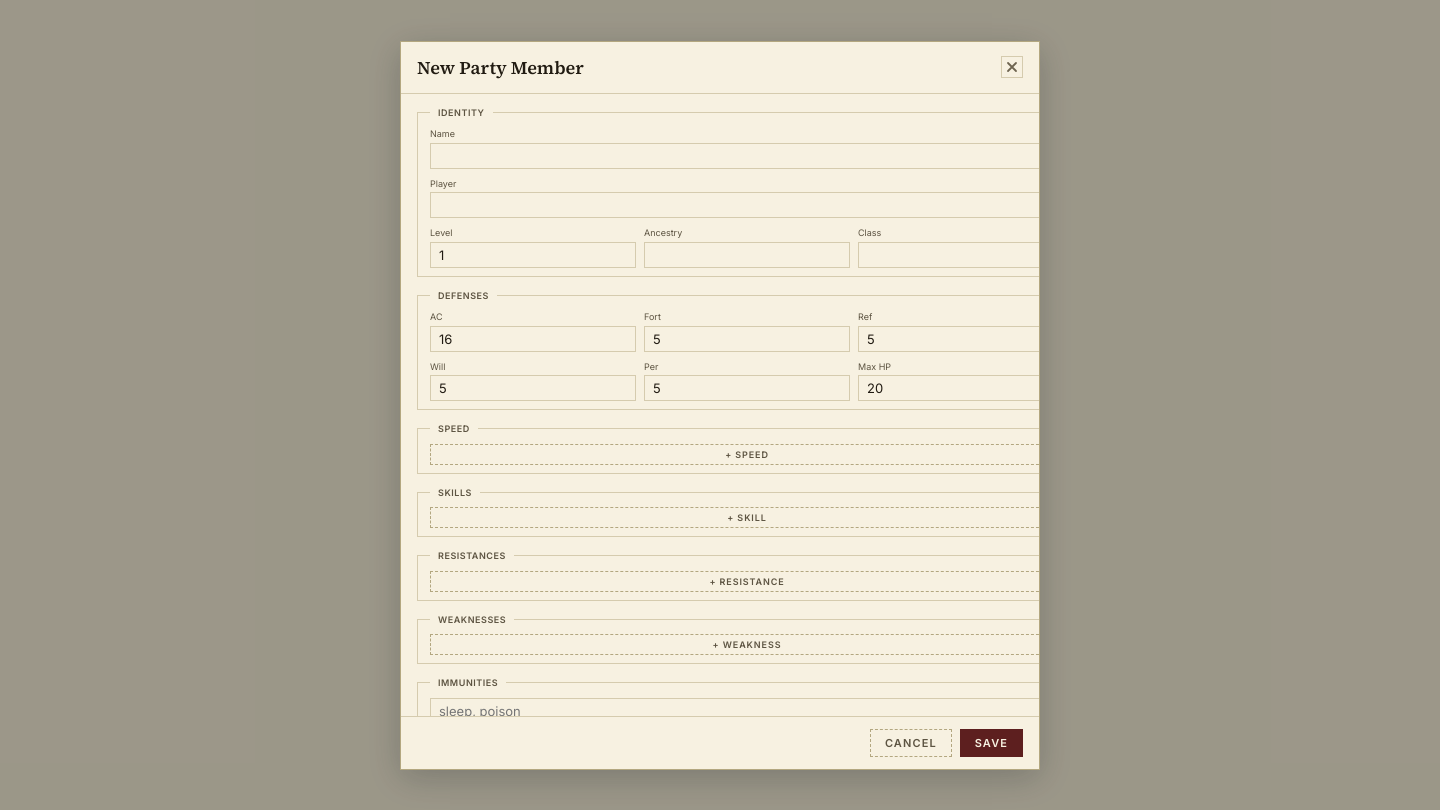
Test: PartyMemberEditModal — JS-level defensive validation › submitting with level below 1 renders the "Level must be at least 1" alert
Type "Aric" into the field labelled "Name" at (747, 156), box left=430, top=142, right=1064, bottom=168
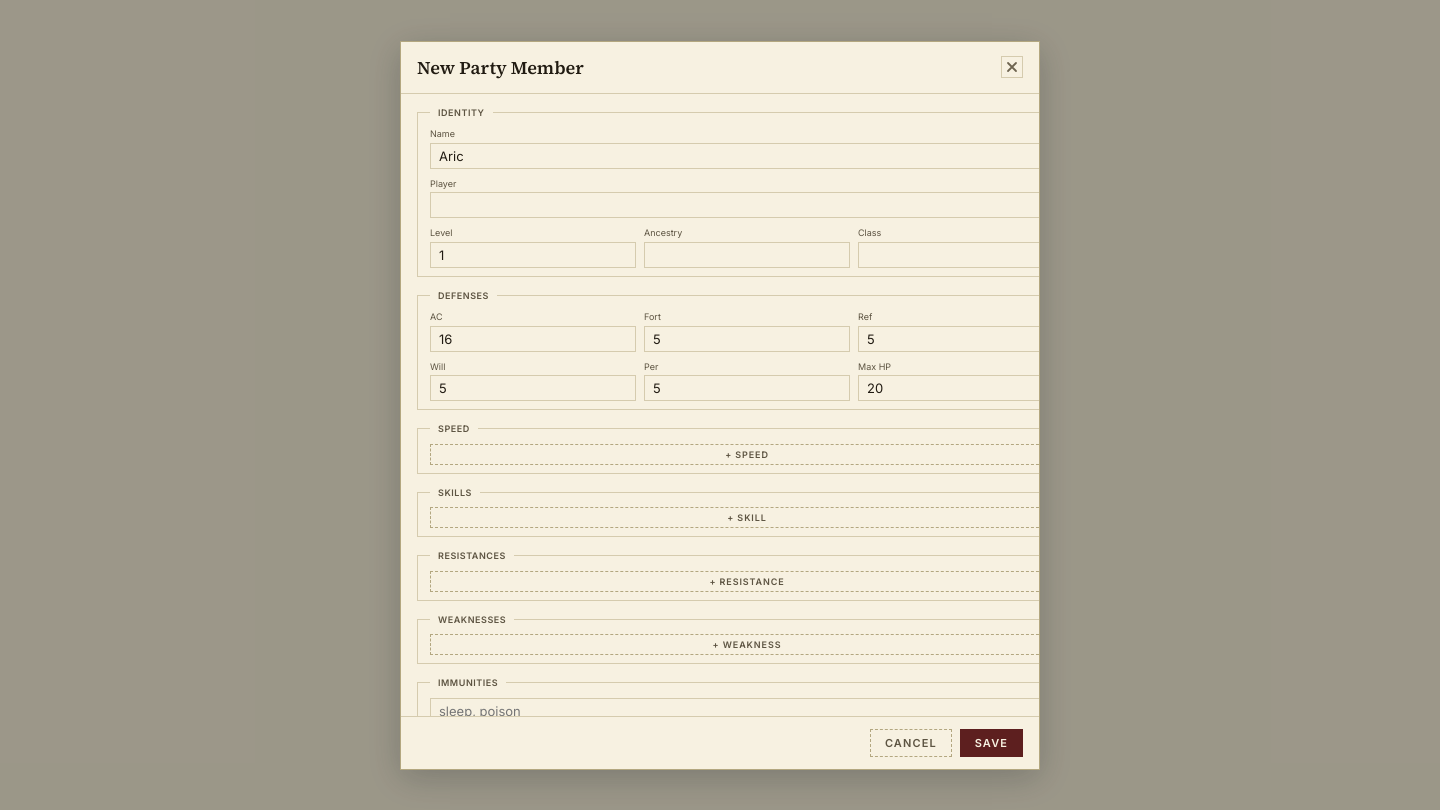
Replace the text in the number field labelled "Level" with "0" at (533, 254), box left=430, top=242, right=636, bottom=268
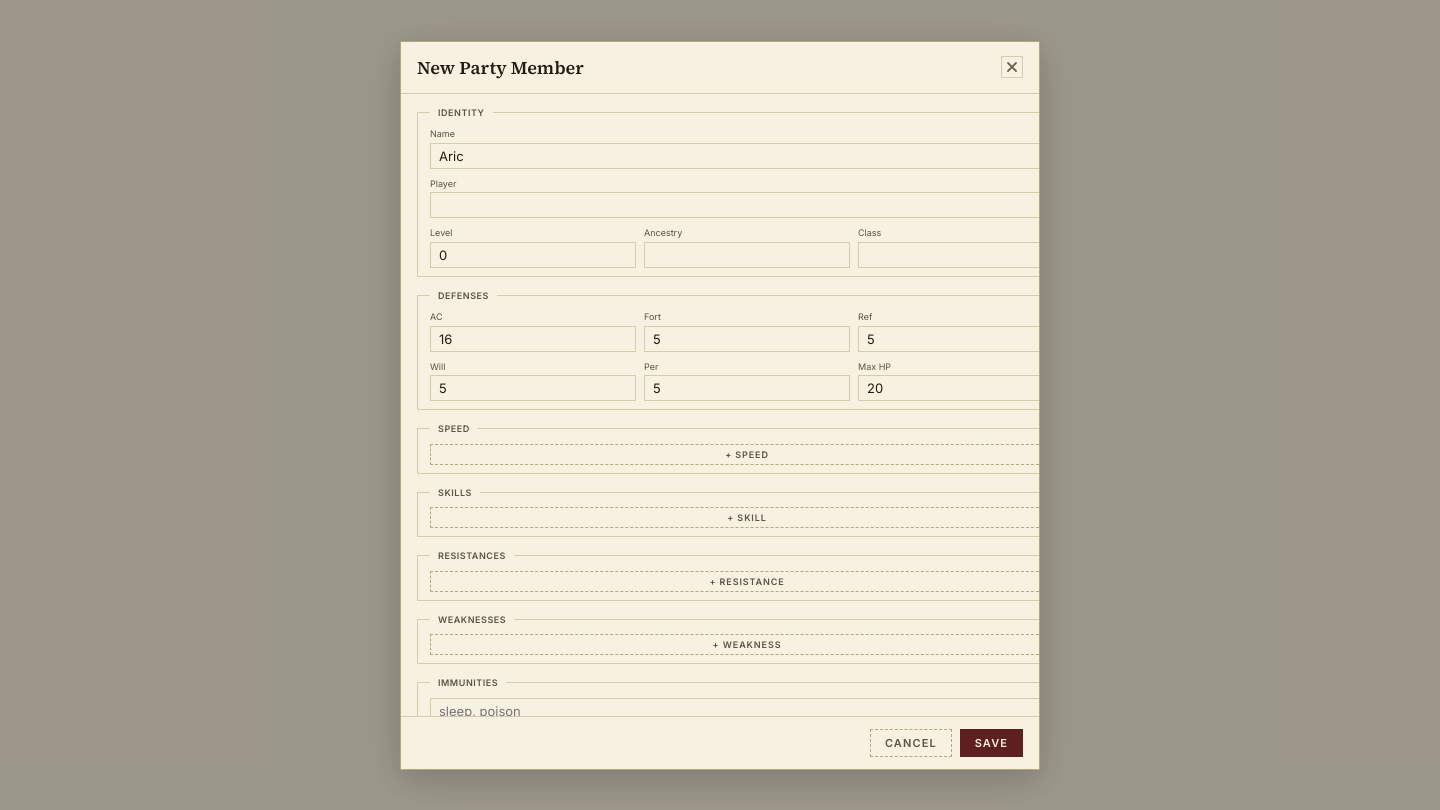
Submit the form, box left=401, top=42, right=1039, bottom=768
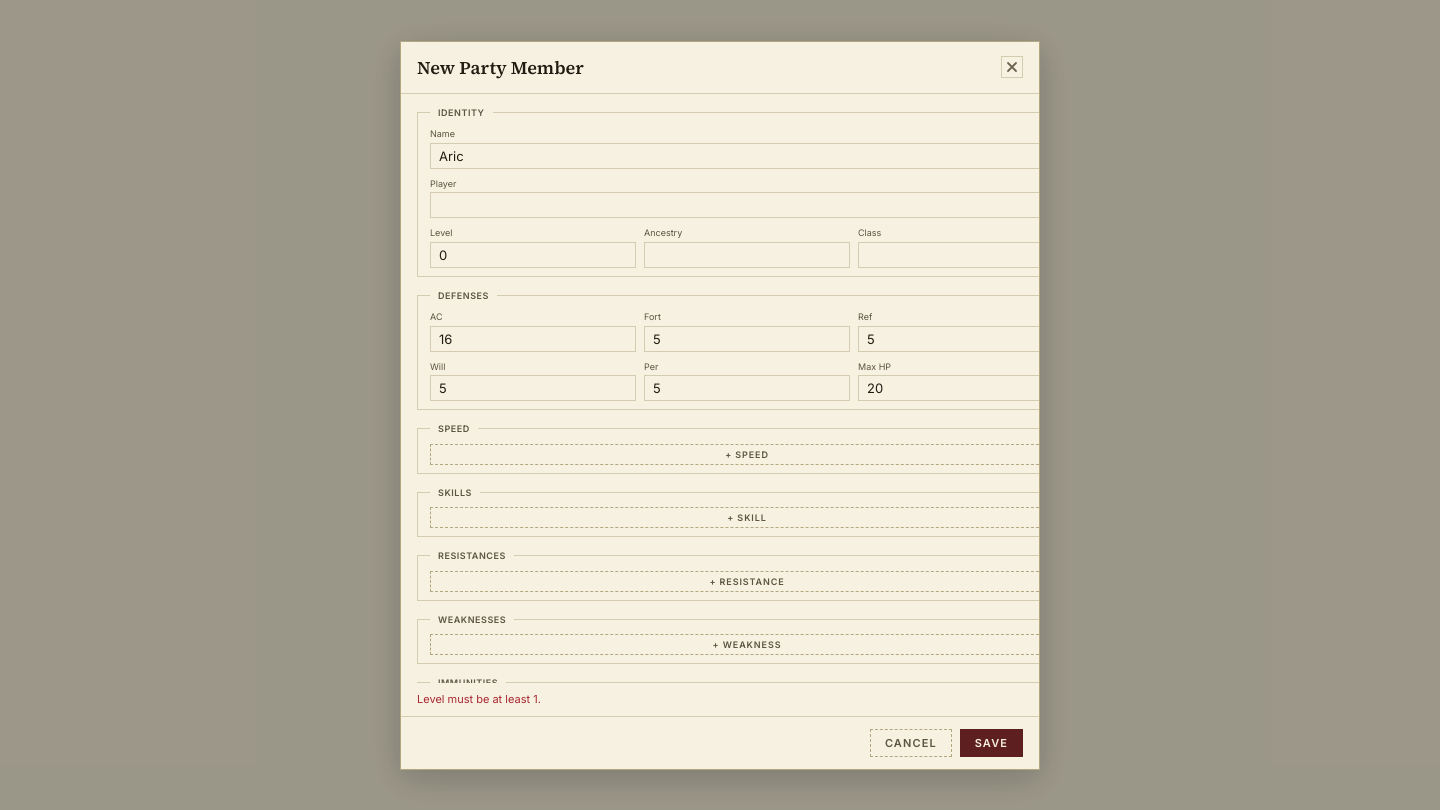
Expected: the message shows "Level must be at least 1", left=417, top=692, right=541, bottom=706
